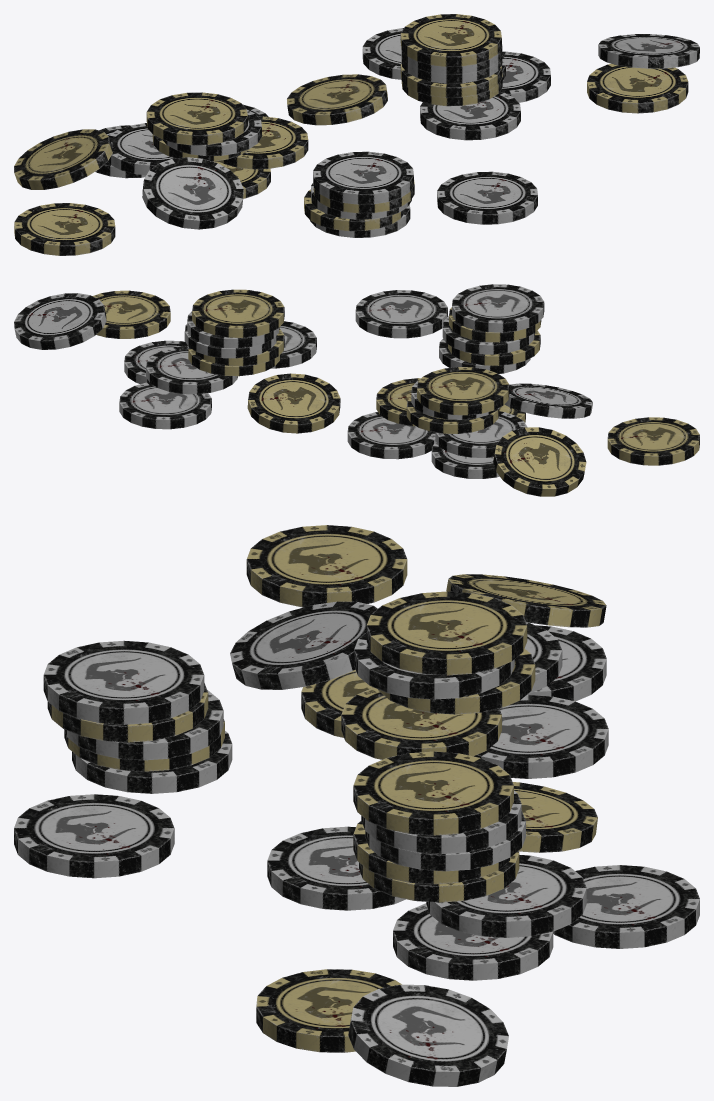
Rendered from casinochips.fbx.
3 renders of one model, top to bottom at view 1: azimuth 30°, elevation 25°; view 2: azimuth 150°, elevation 25°; view 3: azimuth 270°, elevation 25°, orthographic. The views are drawn at different scales.
Visible parts, largest first — view 1: casinochip_pile_02, casinochip_pile_01, casinochip3, casinochip1, polySurface7, casinochip5, casinochip6, casinochip2, casinochip_pile_03, casinochip4; view 2: casinochip_pile_02, casinochip_pile_01, casinochip4, casinochip_pile_03, polySurface7, casinochip1, casinochip5, casinochip3, casinochip6, casinochip2; view 3: casinochip_pile_01, casinochip_pile_02, casinochip4, casinochip_pile_03, casinochip3, polySurface7, casinochip5, casinochip6, casinochip1, casinochip2.
Boxes of the visible parts, x1=… form: casinochip_pile_02: x1=14, y1=104, x2=308, y2=229; casinochip_pile_01: x1=287, y1=28, x2=550, y2=140; casinochip3: x1=146, y1=92, x2=247, y2=145; casinochip1: x1=14, y1=203, x2=115, y2=255; polySurface7: x1=313, y1=151, x2=413, y2=204; casinochip5: x1=400, y1=14, x2=501, y2=66; casinochip6: x1=437, y1=171, x2=537, y2=224; casinochip2: x1=587, y1=63, x2=688, y2=113; casinochip_pile_03: x1=304, y1=180, x2=414, y2=237; casinochip4: x1=598, y1=34, x2=699, y2=68; casinochip_pile_02: x1=347, y1=378, x2=592, y2=496; casinochip_pile_01: x1=119, y1=311, x2=340, y2=433; casinochip4: x1=14, y1=293, x2=106, y2=349; casinochip_pile_03: x1=439, y1=307, x2=541, y2=373; polySurface7: x1=452, y1=284, x2=544, y2=332; casinochip1: x1=607, y1=417, x2=699, y2=465; casinochip5: x1=192, y1=289, x2=284, y2=337; casinochip3: x1=417, y1=367, x2=509, y2=415; casinochip6: x1=355, y1=290, x2=447, y2=338; casinochip2: x1=92, y1=290, x2=170, y2=338; casinochip_pile_01: x1=267, y1=782, x2=699, y2=980; casinochip_pile_02: x1=230, y1=574, x2=608, y2=778; casinochip4: x1=348, y1=984, x2=508, y2=1086; casinochip_pile_03: x1=47, y1=683, x2=232, y2=793; casinochip3: x1=366, y1=591, x2=527, y2=675; polySurface7: x1=43, y1=640, x2=204, y2=724; casinochip5: x1=353, y1=751, x2=513, y2=835; casinochip6: x1=14, y1=794, x2=174, y2=878; casinochip1: x1=246, y1=525, x2=407, y2=607; casinochip2: x1=256, y1=969, x2=401, y2=1052.
Size of the model in its own units: 16.02 by 1.69 by 8.55.
